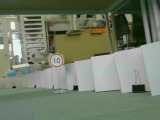speed_10: (47, 52, 65, 69)
